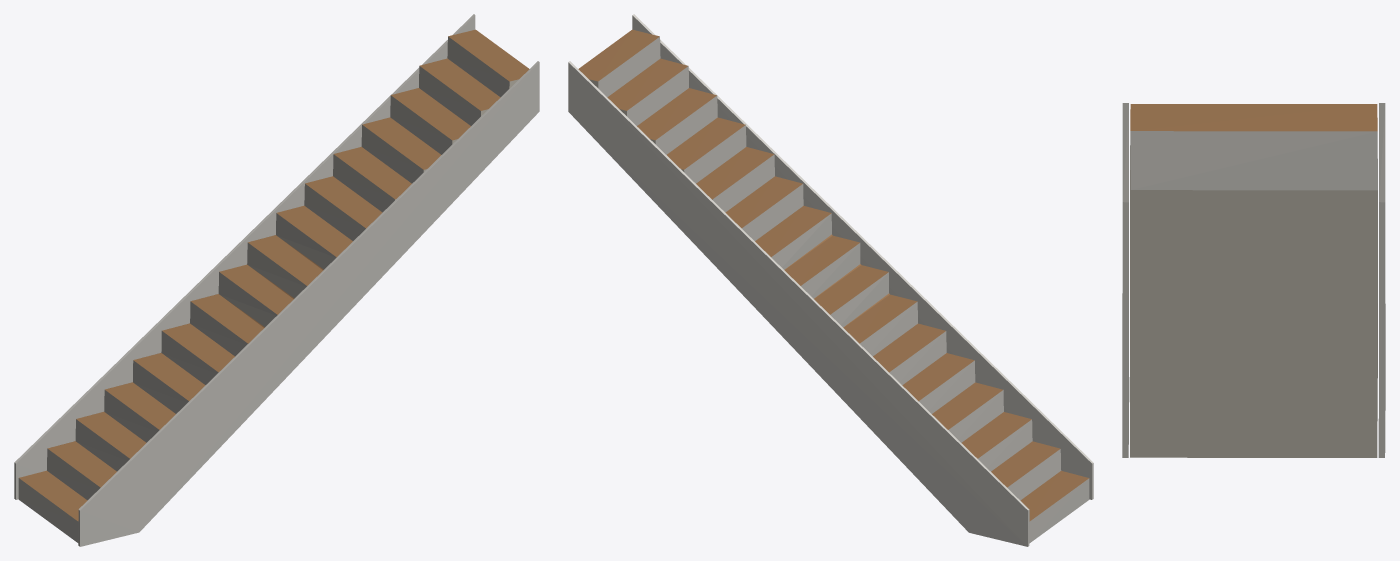
File: SM_Kit_Stair_Straight_LOD2.glb
3 renders of one model, left to right at view 1: azimuth 30°, elevation 25°; view 2: azimuth 150°, elevation 25°; view 3: azimuth 270°, elevation 25°, orthographic. The views are drawn at different scales.
Parts seen in each view (by area): view 1: SM_Kit_Stair_Straight_LOD2; view 2: SM_Kit_Stair_Straight_LOD2; view 3: SM_Kit_Stair_Straight_LOD2.
Part boxes in pixels (x1,y1,x2,y2): SM_Kit_Stair_Straight_LOD2: [14, 14, 539, 546]; SM_Kit_Stair_Straight_LOD2: [568, 14, 1093, 546]; SM_Kit_Stair_Straight_LOD2: [1122, 103, 1385, 457].
Bounding box in the file's own units: 4.02 × 3.11 × 0.9956.
